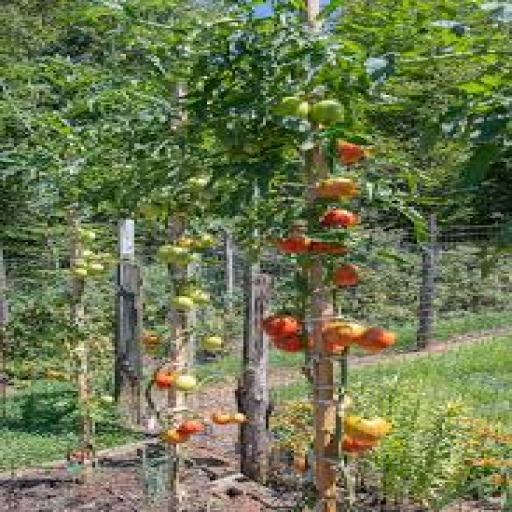tomato: (322, 321, 366, 353), (345, 416, 391, 441), (314, 177, 358, 199), (359, 328, 397, 351), (263, 315, 302, 336), (311, 101, 344, 124), (277, 97, 310, 119), (319, 209, 358, 227), (336, 142, 366, 165), (157, 244, 190, 262), (333, 263, 358, 286), (342, 436, 377, 452), (311, 241, 349, 255), (277, 237, 310, 253), (272, 336, 304, 351), (210, 412, 246, 424), (177, 419, 204, 435), (163, 429, 190, 444), (154, 369, 176, 387), (174, 375, 198, 390), (188, 289, 209, 305), (202, 336, 223, 351), (171, 297, 195, 310), (194, 235, 215, 249), (143, 332, 162, 346), (210, 412, 232, 424), (188, 177, 209, 189), (294, 453, 307, 472), (87, 263, 106, 275), (79, 230, 97, 242), (177, 237, 195, 249), (73, 267, 89, 279), (342, 395, 355, 409), (233, 412, 246, 424), (82, 250, 95, 260)
